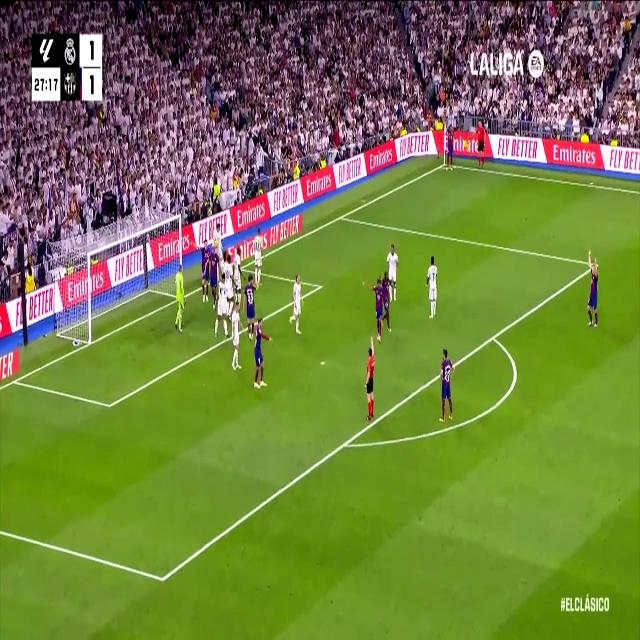bigarea_bottom_inner: (156, 562, 170, 594)
bigarea_top_outter: (337, 209, 345, 224)
bottom_arc_area_intersection: (339, 430, 351, 456)
corner: (439, 160, 447, 169)
smallarea_bottom_inner: (104, 393, 114, 418)
smallarea_bottom_outter: (11, 374, 19, 388)
smallarea_top_inner: (316, 278, 324, 294)
top_arc_area_intersection: (488, 326, 498, 347)
